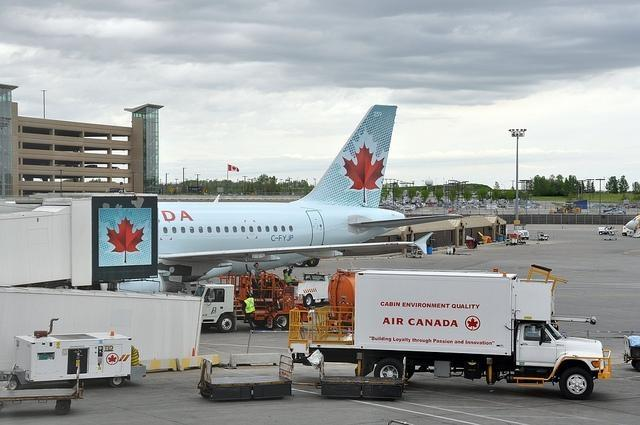car: (623, 334, 640, 373), (598, 226, 618, 234), (84, 164, 98, 168), (112, 167, 121, 169)
truck: (289, 263, 611, 400), (194, 272, 306, 332), (286, 272, 332, 306), (513, 224, 529, 239), (534, 231, 550, 241)
